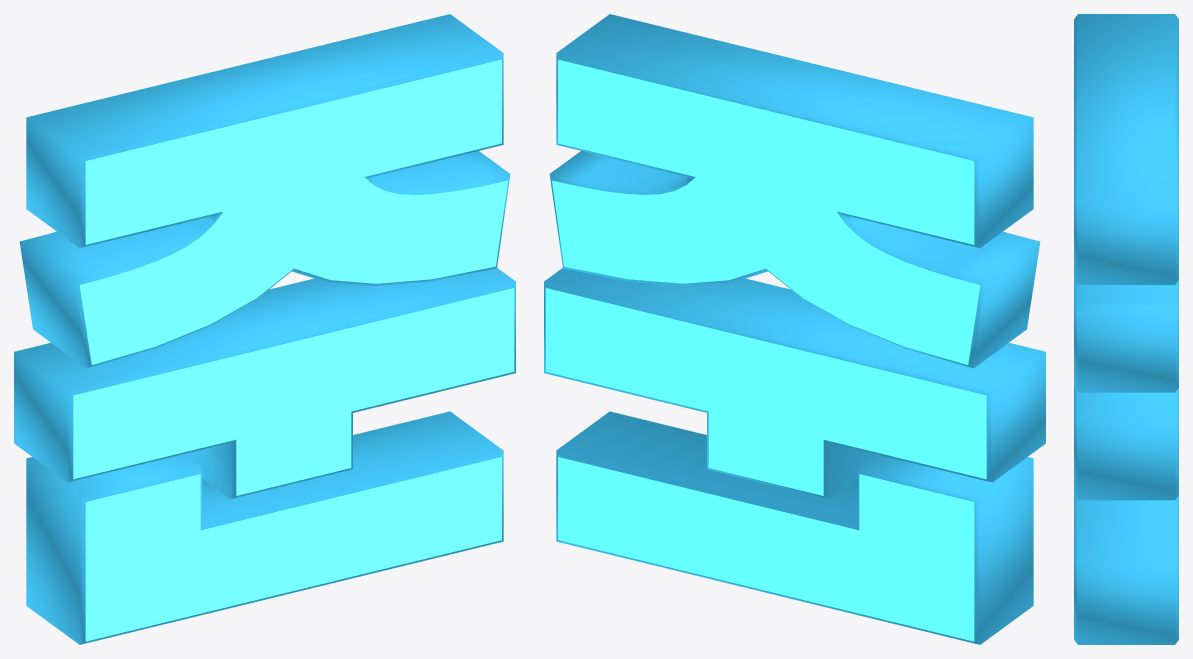
The picture shows the model from 3 angles, left to right: view 1: azimuth 30°, elevation 25°; view 2: azimuth 150°, elevation 25°; view 3: azimuth 270°, elevation 25°; orthographic projection. The views are drawn at different scales.
Parts seen in each view (by area): view 1: glyph; view 2: glyph; view 3: glyph.
Part boxes in pixels (x1,y1,x2,y2): glyph: (14,14,515,644); glyph: (544,14,1045,644); glyph: (1074,14,1178,644).
Size of the model in its own units: 0.0726 by 0.0756 by 0.0162.
